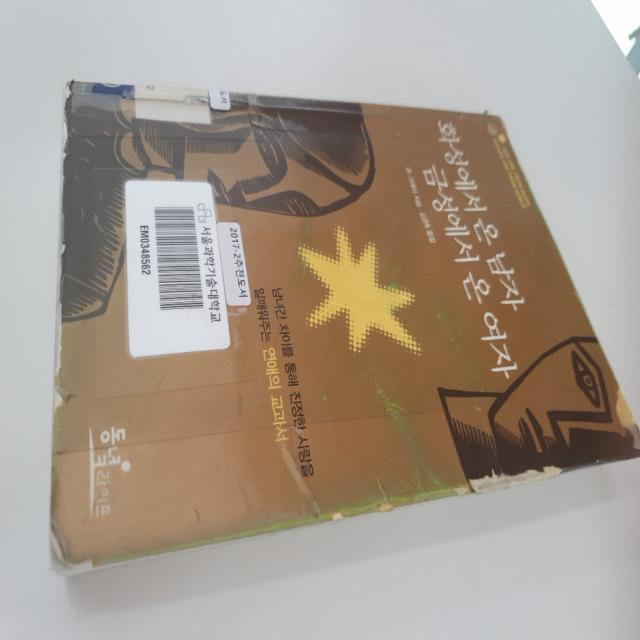Ripped: (46, 518, 96, 585), (46, 376, 89, 417), (479, 96, 511, 134)
Wornout: (51, 77, 78, 377), (450, 465, 567, 502), (569, 283, 597, 335), (373, 499, 395, 516), (329, 509, 349, 523), (591, 455, 602, 469)
